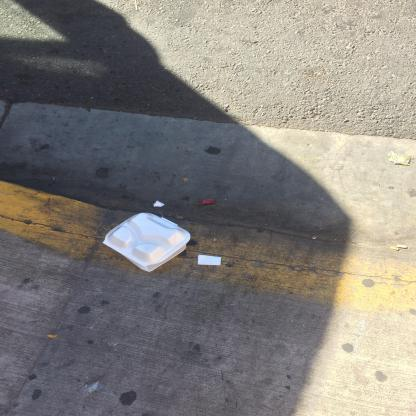kagit: (198, 255, 224, 267)
kopuk: (102, 213, 194, 275)
